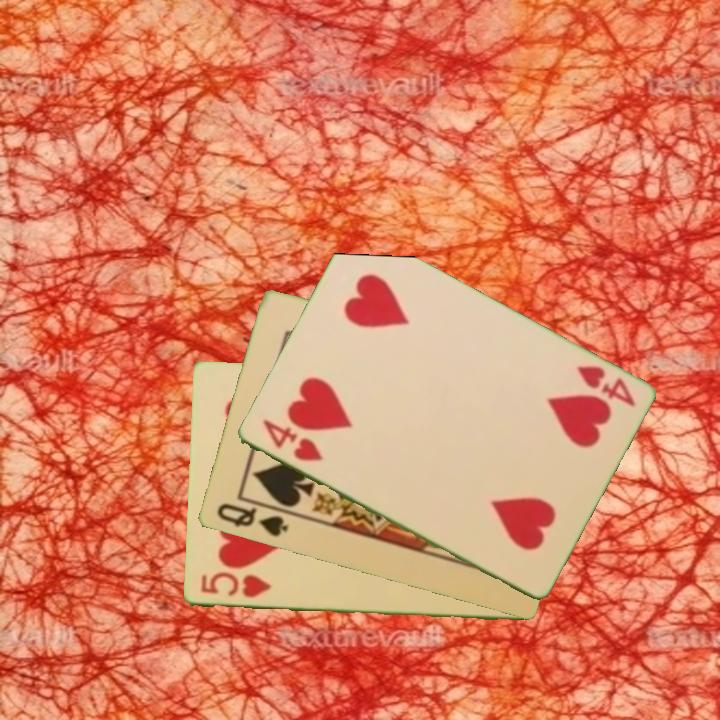4h: (258, 416, 326, 465), (572, 362, 638, 410)
5h: (197, 571, 274, 601)
Qs: (213, 500, 291, 540)
